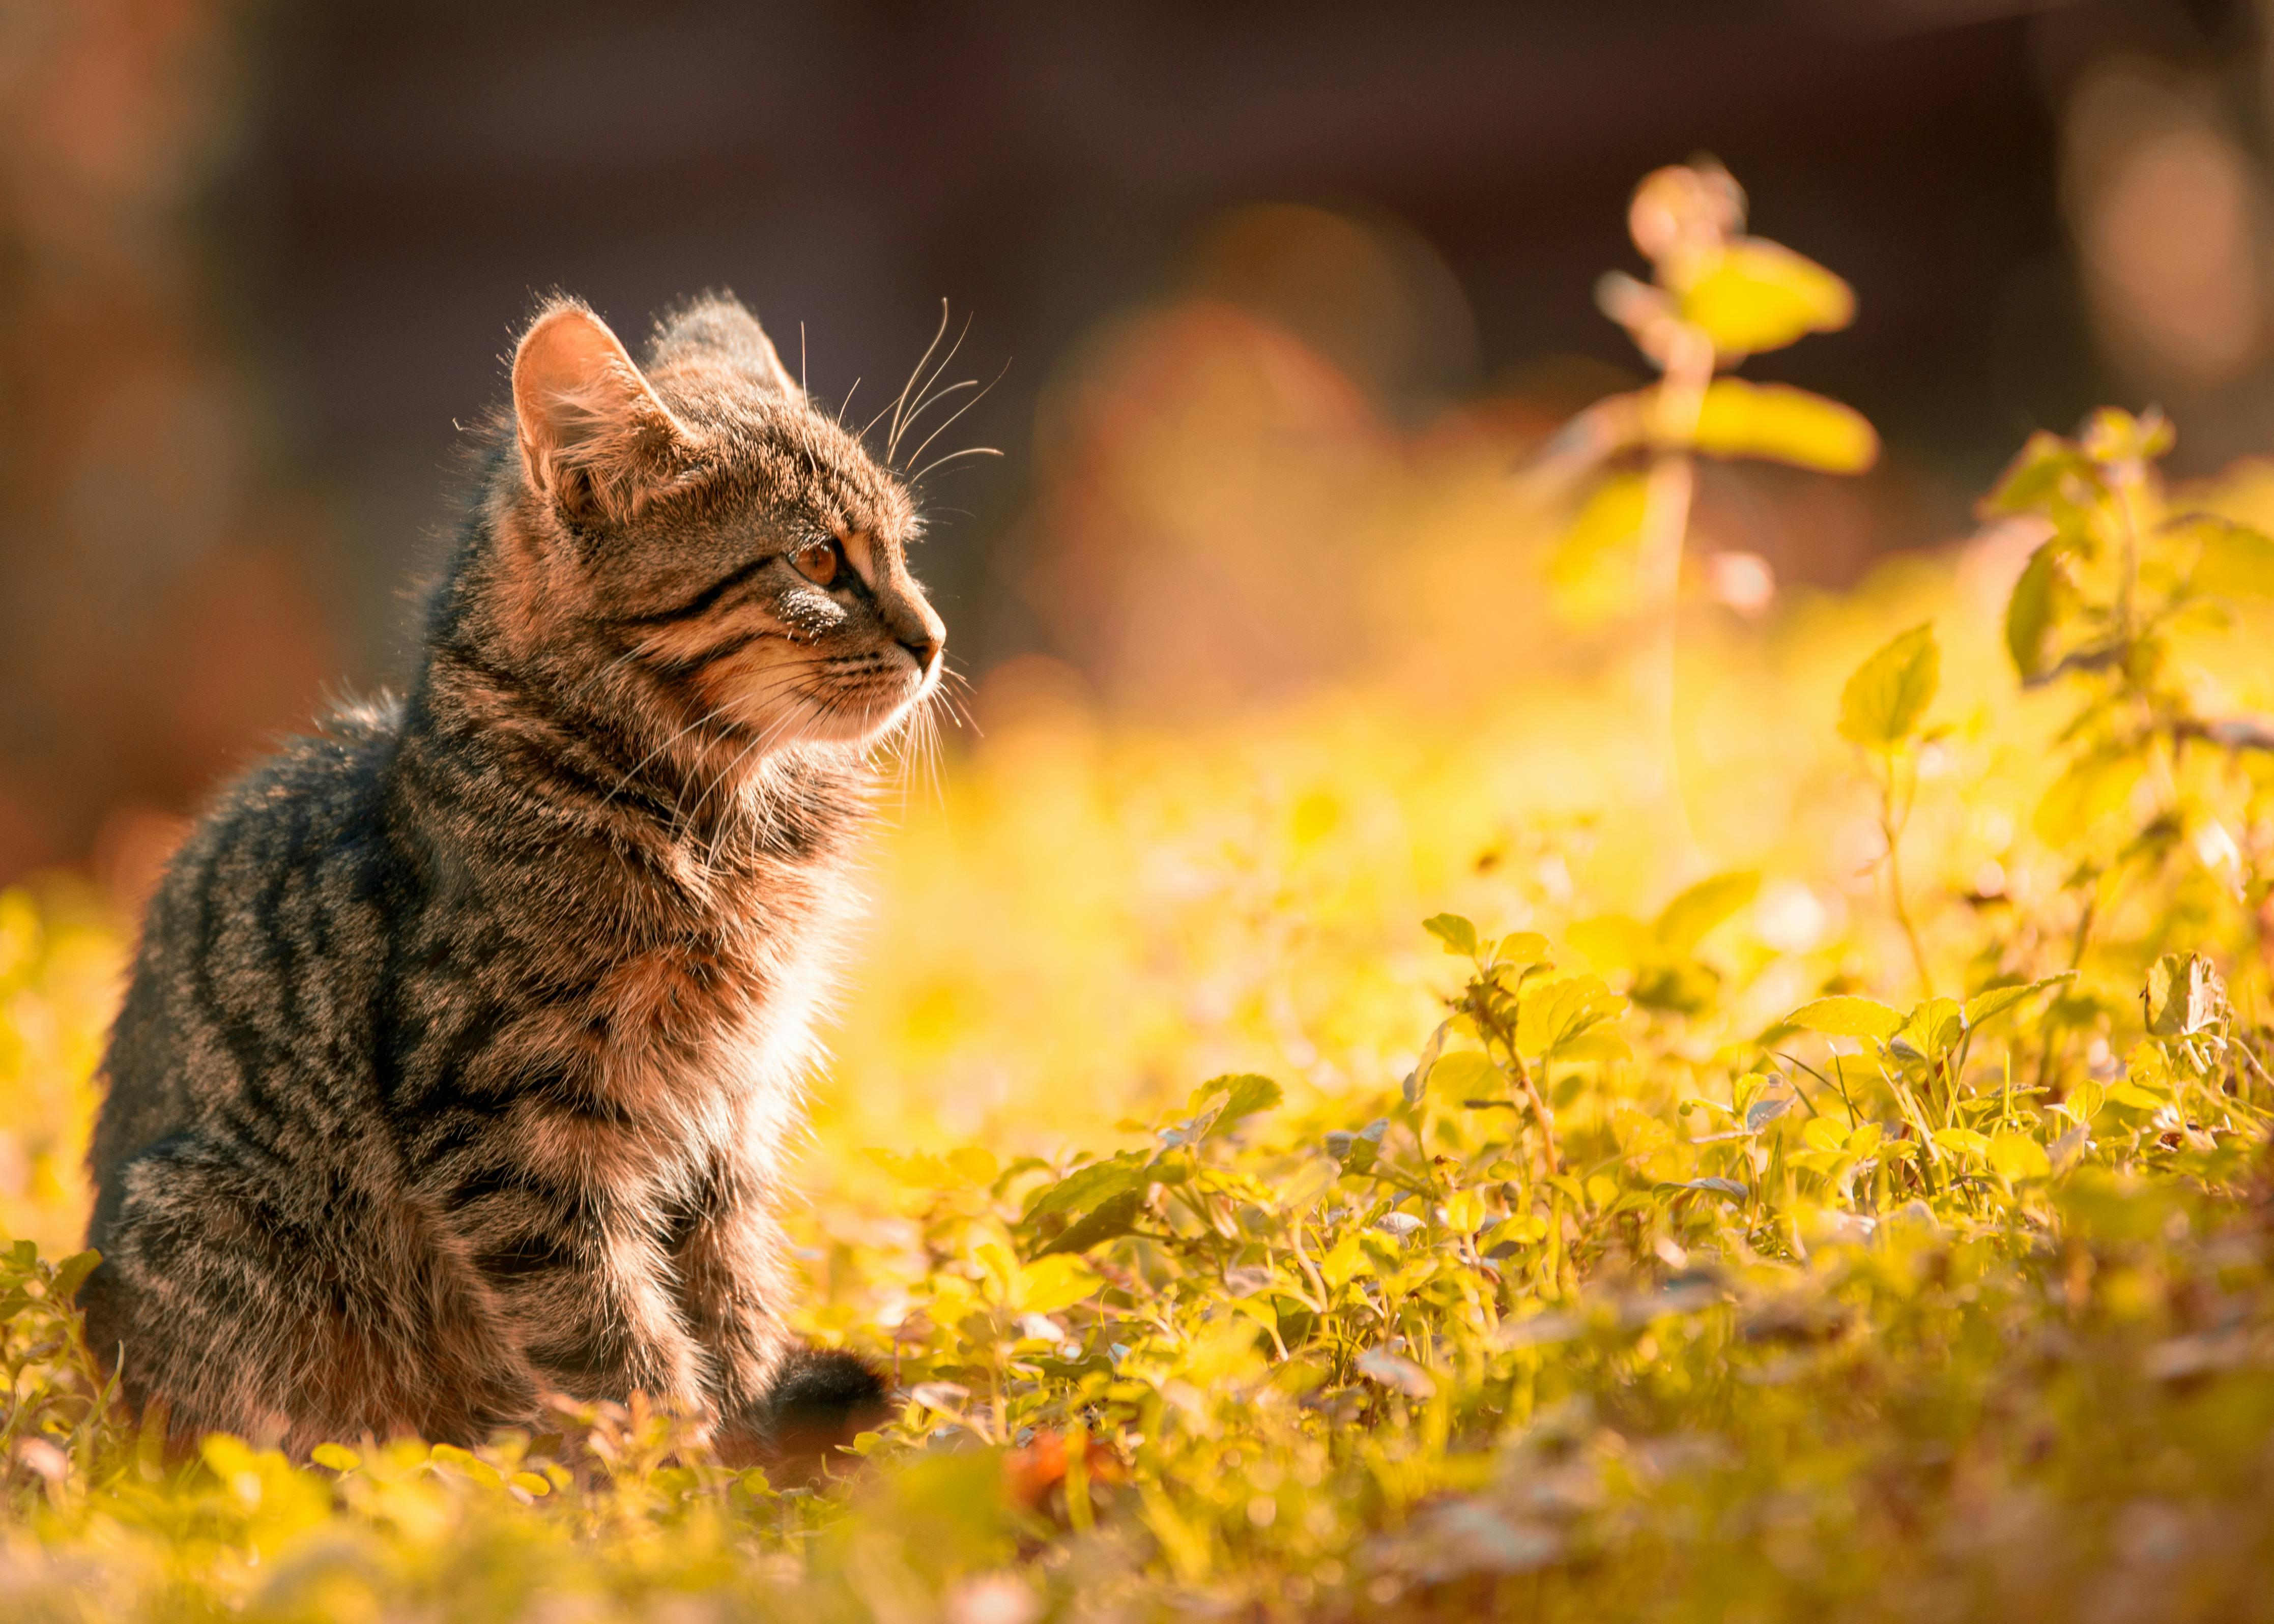kedo: (98, 290, 951, 1513)
